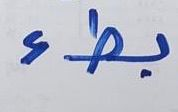beh: (130, 24, 172, 82)
hamza: (14, 21, 53, 70)
tah: (61, 4, 127, 80)
